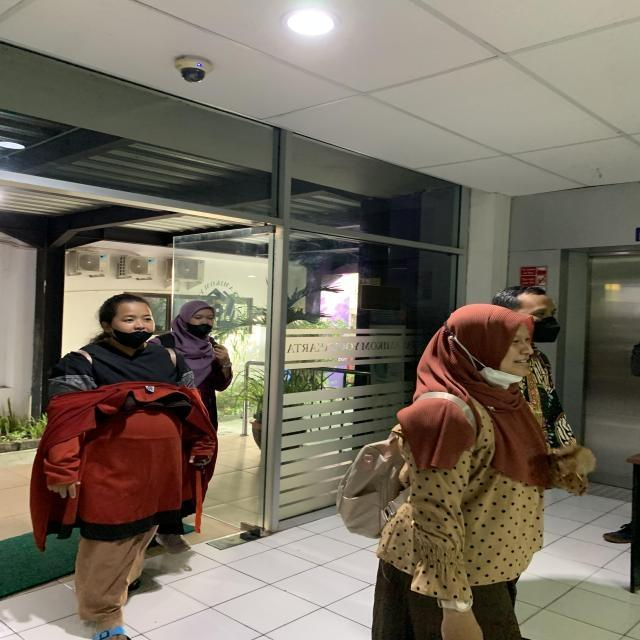hairnet: (431, 302, 542, 391), (93, 291, 164, 354), (176, 299, 227, 339)
